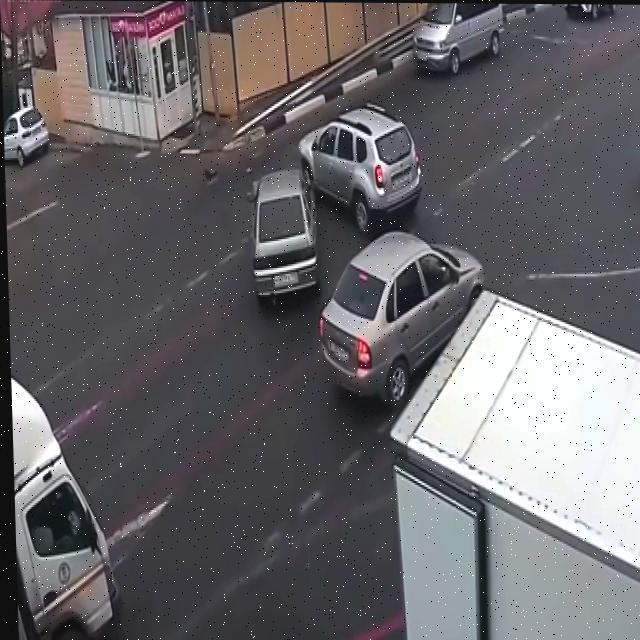multiple_accident: (247, 141, 423, 256)
normal: (339, 240, 464, 407), (400, 0, 549, 79), (6, 99, 60, 173)
